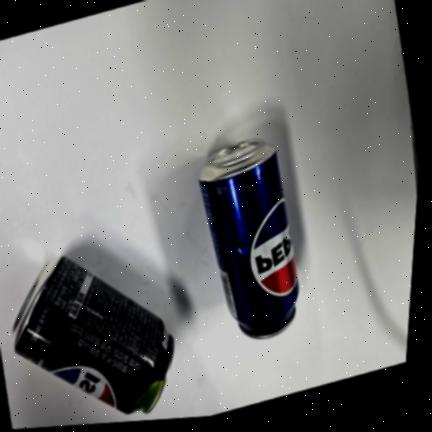can_pepsi: (199, 138, 299, 338)
can_pepsi_zero: (14, 256, 174, 413)
